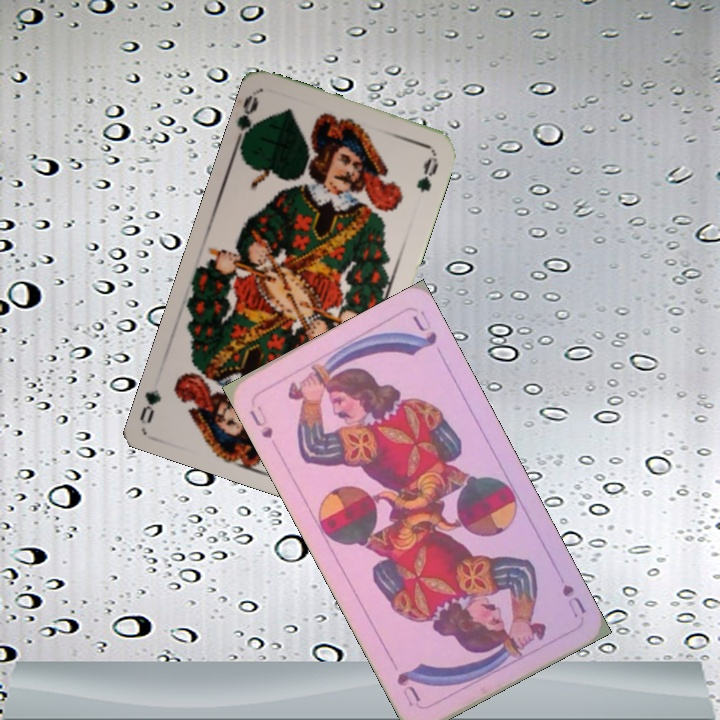GO: (231, 91, 265, 150)
SU: (558, 580, 588, 621), (246, 405, 276, 442)
